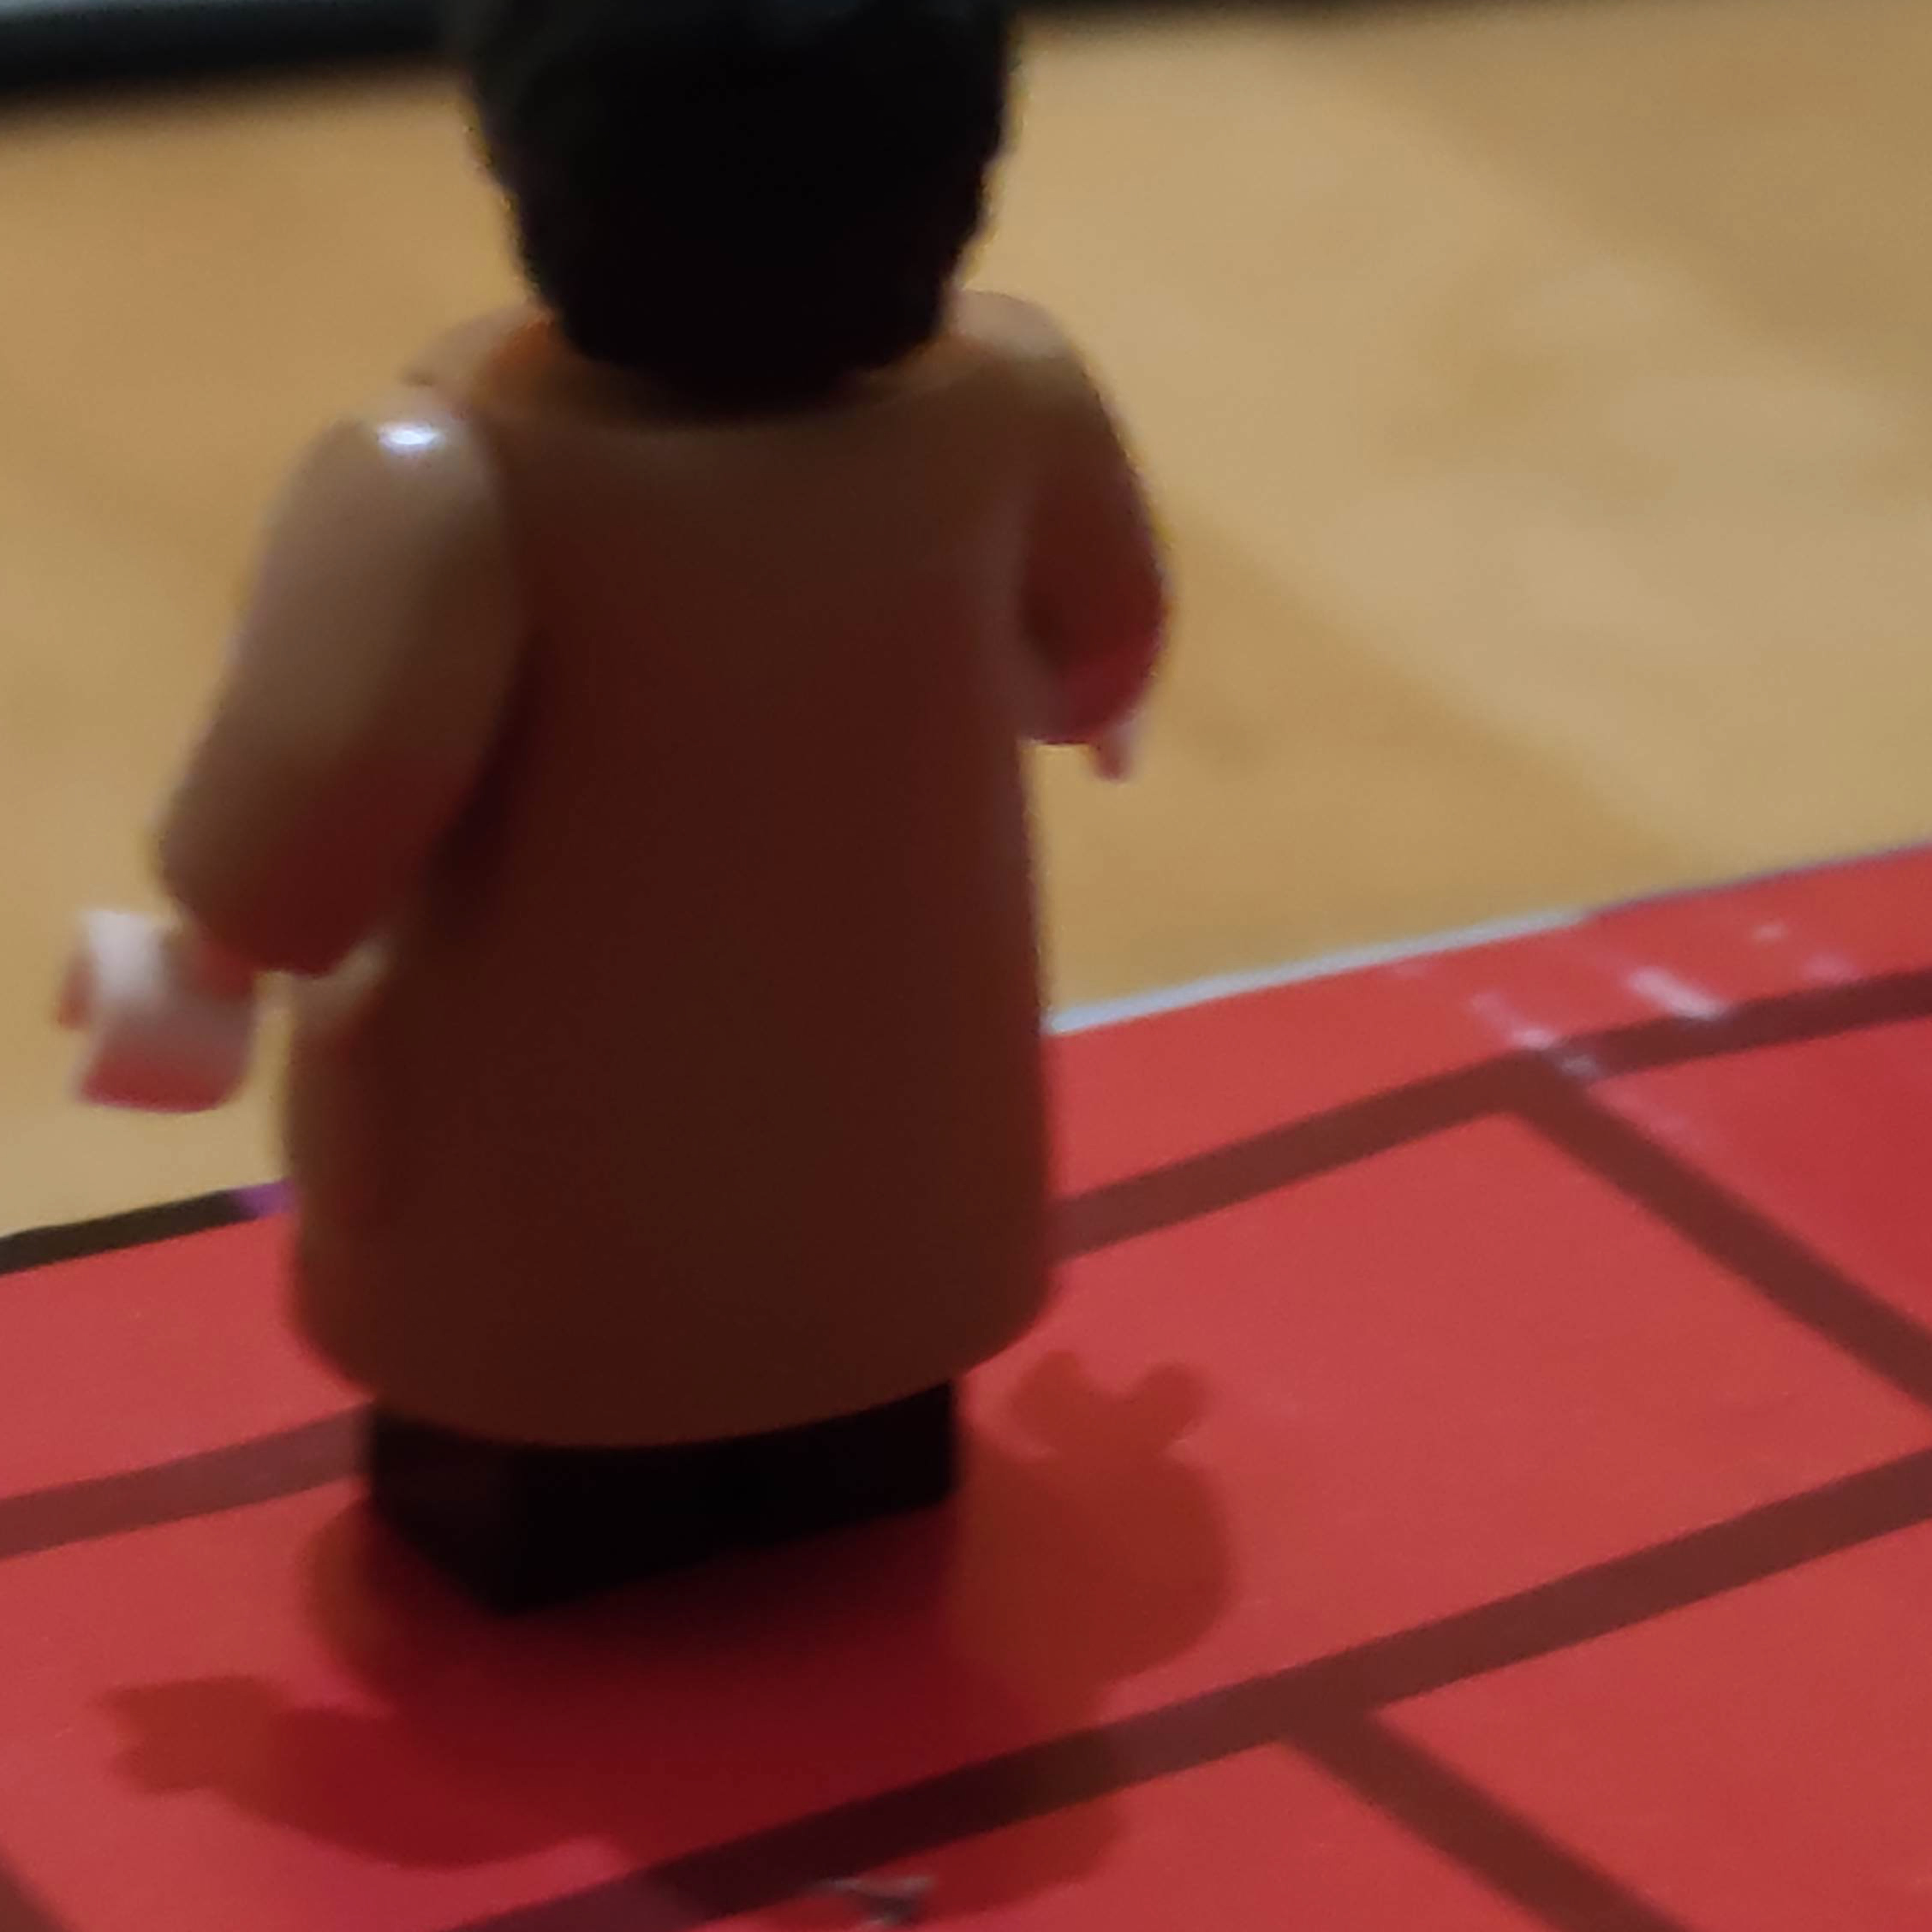lego: (64, 0, 1168, 1612)
